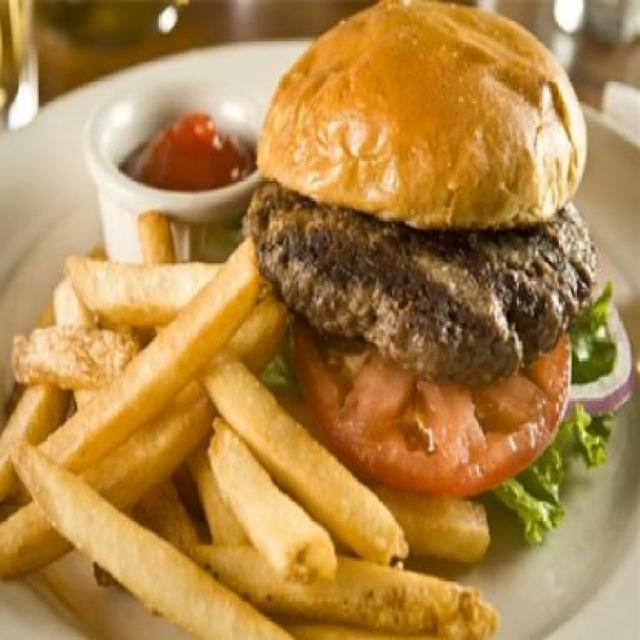french fries: (4, 191, 498, 638)
